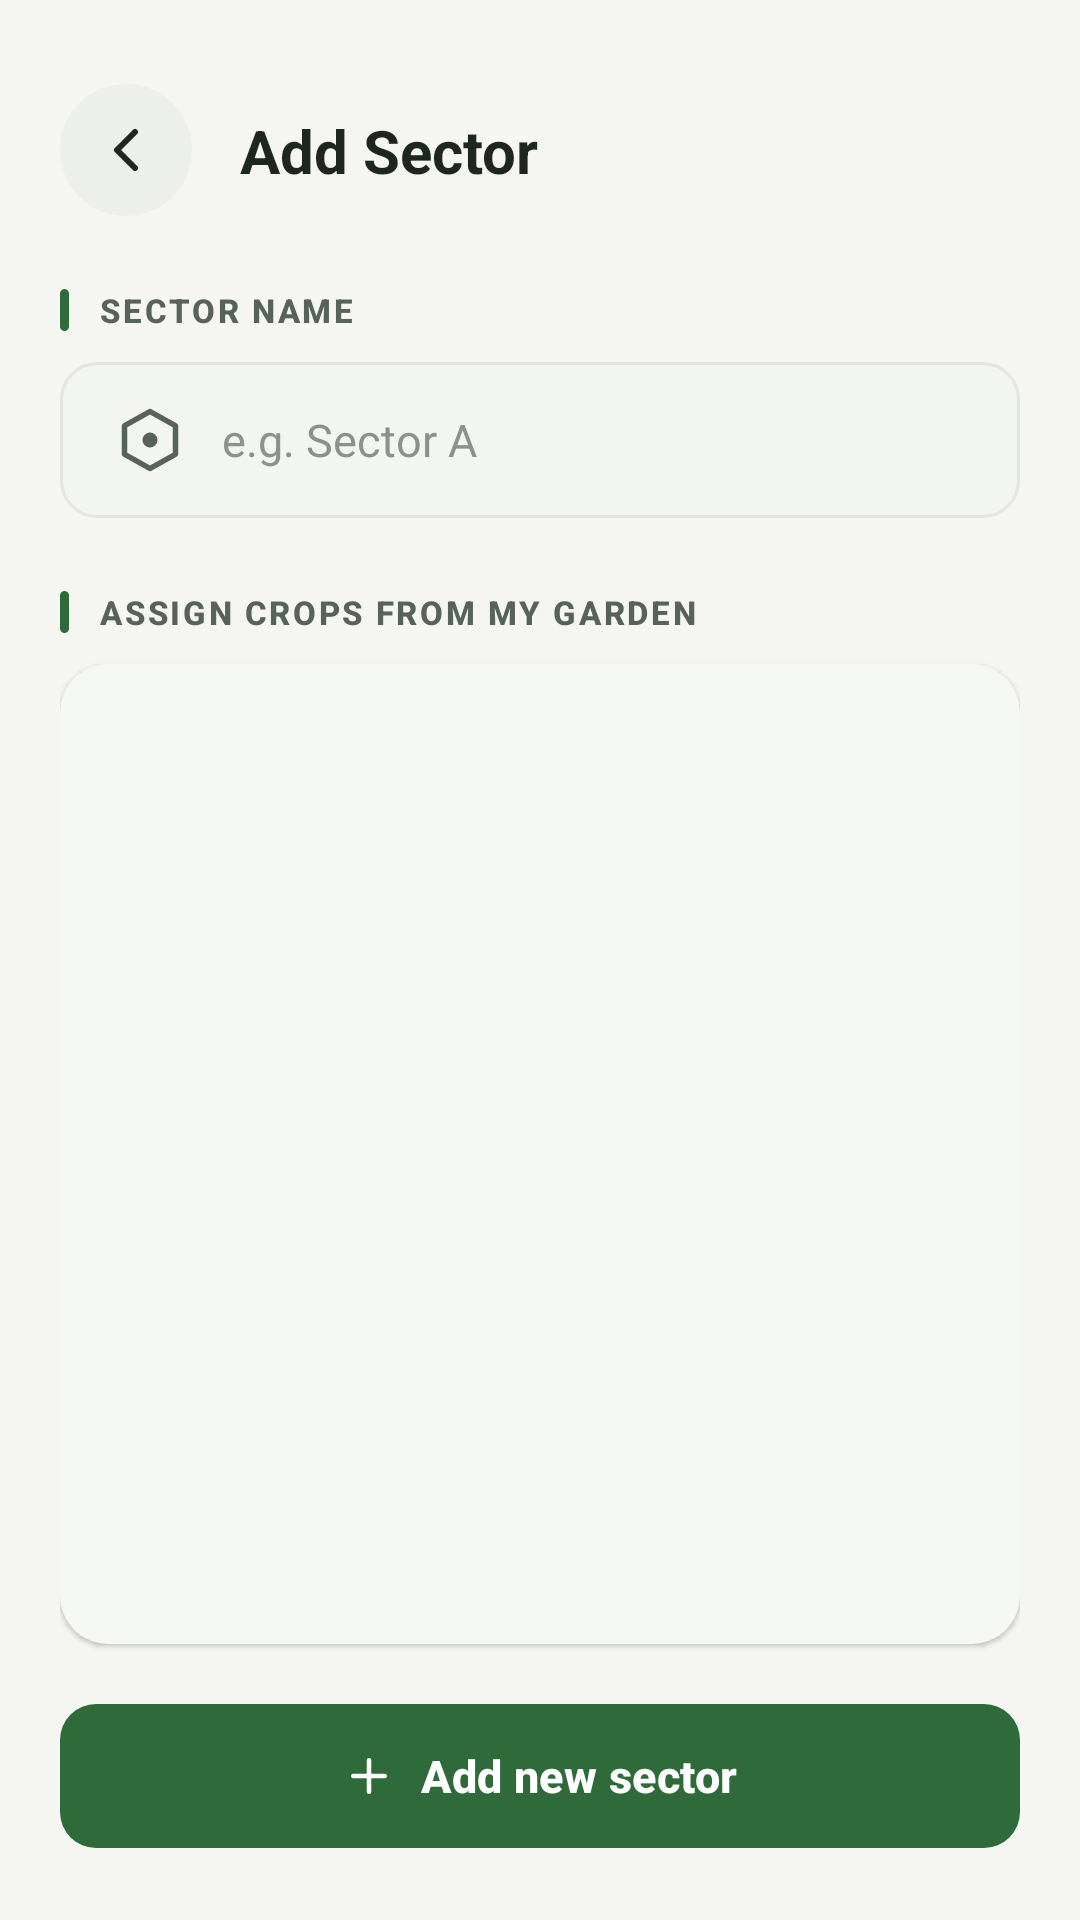

Named icons in this screenshot (1080px x 1920px) and their bounding boxes, BBox(x1, y1, x2, y2):
Back: BBox(114, 129, 138, 171)
